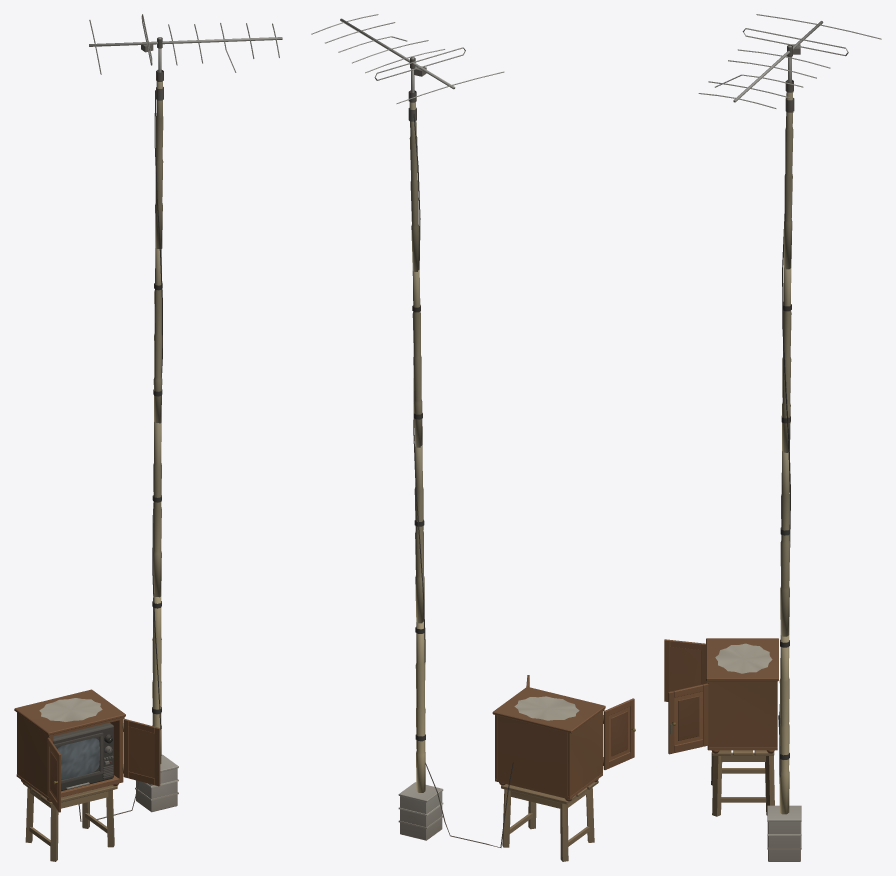
The model's file is tv_cabinet_v2.glb.
3 renders of one model, left to right at view 1: azimuth 30°, elevation 25°; view 2: azimuth 150°, elevation 25°; view 3: azimuth 270°, elevation 25°, orthographic. The views are drawn at different scales.
Parts seen in each view (by area): view 1: hb_wood, hb_main, hb_metal; view 2: hb_wood, hb_metal, hb_main; view 3: hb_wood, hb_metal, hb_main.
Boxes of the visible parts, left/top/right/bottom form: hb_wood: left=14, top=81, right=163, bottom=861; hb_main: left=39, top=44, right=162, bottom=821; hb_metal: left=54, top=14, right=282, bottom=812; hb_wood: left=409, top=102, right=634, bottom=861; hb_metal: left=311, top=14, right=635, bottom=840; hb_main: left=412, top=66, right=579, bottom=847; hb_wood: left=664, top=92, right=793, bottom=816; hb_metal: left=670, top=14, right=881, bottom=861; hb_main: left=715, top=44, right=800, bottom=776.
Size of the model in its own units: 2.4 by 6.53 by 1.58.
